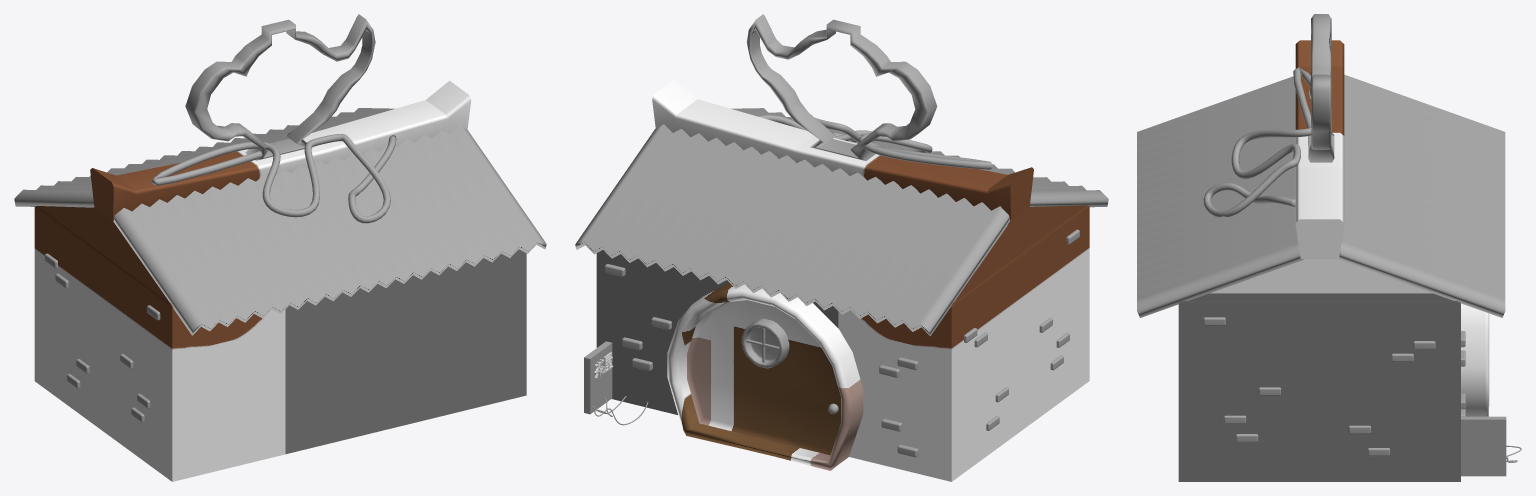
Rendered from Tea_house.fbx.
3 views of the same model, side by side, from view 1: azimuth 30°, elevation 25°; view 2: azimuth 150°, elevation 25°; view 3: azimuth 270°, elevation 25° (orthographic). The views are drawn at different scales.
Visible parts, largest first — view 1: teahouse, metal_parts, teapot; view 2: teahouse, metal_parts, teapot; view 3: teahouse, metal_parts, teapot.
Boxes of the visible parts, x1,y1,x2,y2 form: teahouse: (34,80,526,481); metal_parts: (14,108,546,335); teapot: (185,14,375,160); teahouse: (596,80,1089,481); metal_parts: (575,108,1108,425); teapot: (746,14,937,160); teahouse: (1178,40,1489,481); metal_parts: (1137,67,1521,476); teapot: (1308,14,1334,162).
Bounding box in the file's own units: 12.06 × 11.83 × 10.91.
